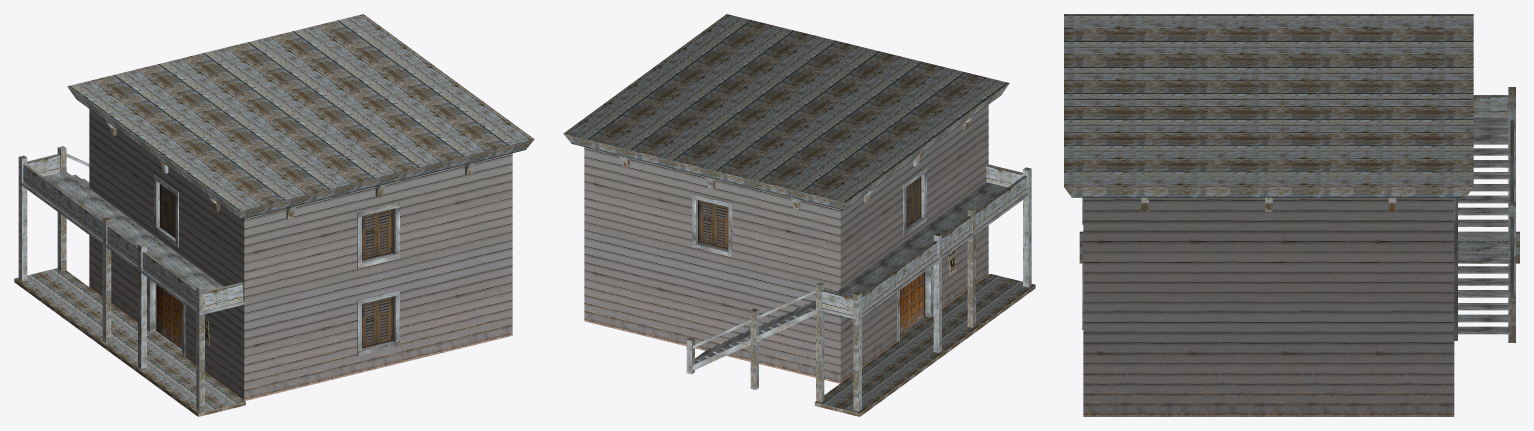
File: StaticMesh6.fbx
3 renders of one model, left to right at view 1: azimuth 30°, elevation 25°; view 2: azimuth 150°, elevation 25°; view 3: azimuth 270°, elevation 25°, orthographic. The views are drawn at different scales.
Visible parts, largest first — view 1: StaticMesh6; view 2: StaticMesh6; view 3: StaticMesh6.
Boxes of the visible parts, x1=… form: StaticMesh6: x1=14, y1=14, x2=534, y2=416; StaticMesh6: x1=563, y1=14, x2=1035, y2=416; StaticMesh6: x1=1064, y1=14, x2=1519, y2=416.
Size of the model in its own units: 94400 by 55200 by 94400.
